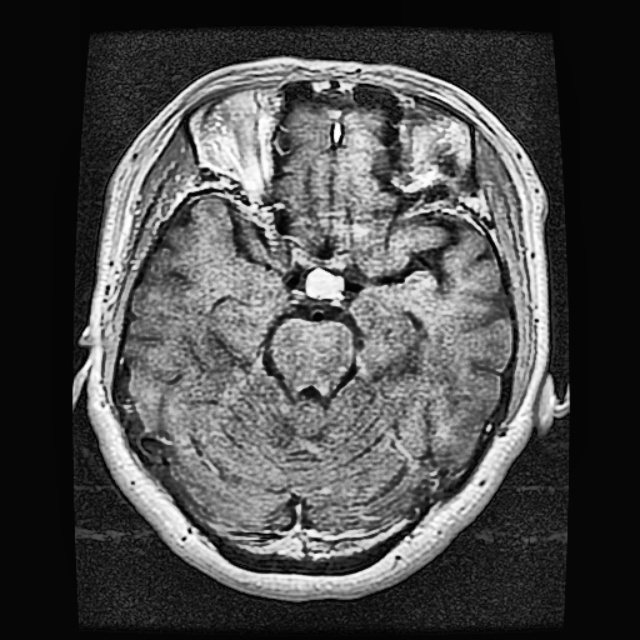Pituitary: (305, 268, 345, 304)
